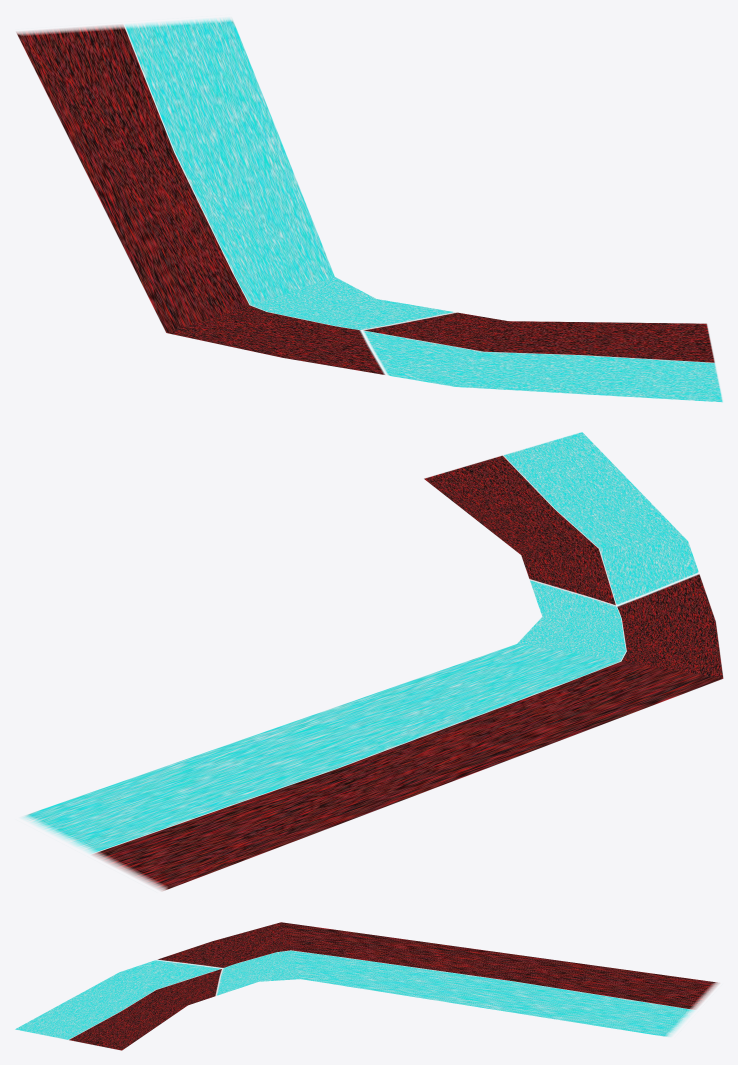
3 renders of one model, top to bottom at view 1: azimuth 30°, elevation 25°; view 2: azimuth 150°, elevation 25°; view 3: azimuth 270°, elevation 25°, orthographic. The views are drawn at different scales.
Parts seen in each view (by area): view 1: SM_VFX_BR_River04_LOD0; view 2: SM_VFX_BR_River04_LOD0; view 3: SM_VFX_BR_River04_LOD0.
Boxes of the visible parts, x1=… form: SM_VFX_BR_River04_LOD0: x1=16, y1=18, x2=722, y2=402; SM_VFX_BR_River04_LOD0: x1=21, y1=432, x2=723, y2=890; SM_VFX_BR_River04_LOD0: x1=15, y1=922, x2=718, y2=1050.
Size of the model in its own units: 74.32 by 0 by 173.
1 material, 1 textured.
